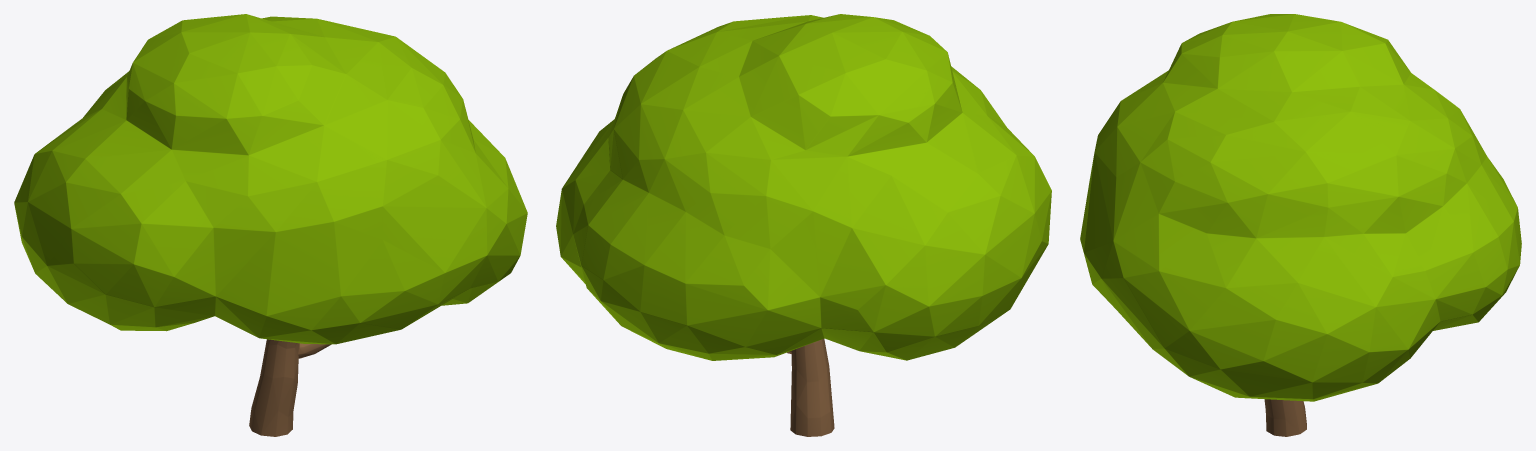
File: Tree_04.glb
The picture shows the model from 3 angles, left to right: view 1: azimuth 30°, elevation 25°; view 2: azimuth 150°, elevation 25°; view 3: azimuth 270°, elevation 25°; orthographic projection. The views are drawn at different scales.
Parts seen in each view (by area): view 1: Tree_04; view 2: Tree_04; view 3: Tree_04.
Part boxes in pixels (x1=…): Tree_04: x1=14, y1=14, x2=527, y2=436; Tree_04: x1=556, y1=14, x2=1051, y2=436; Tree_04: x1=1080, y1=14, x2=1521, y2=436.
Bounding box in the file's own units: 0.1681 × 0.1453 × 0.1502.
